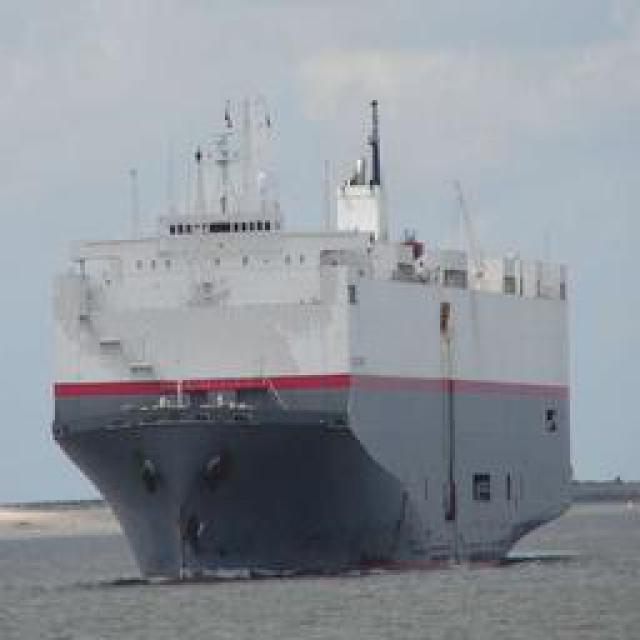Ship: (43, 80, 581, 573)
